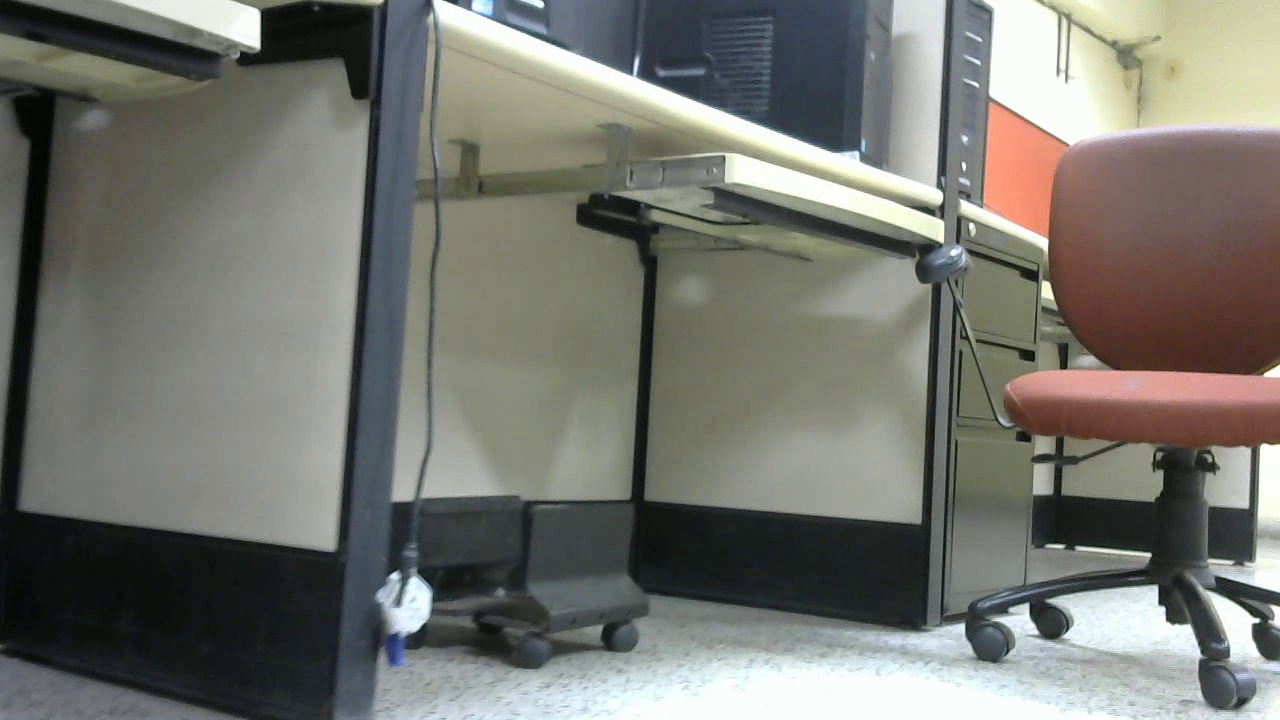chair: (910, 119, 1280, 711)
